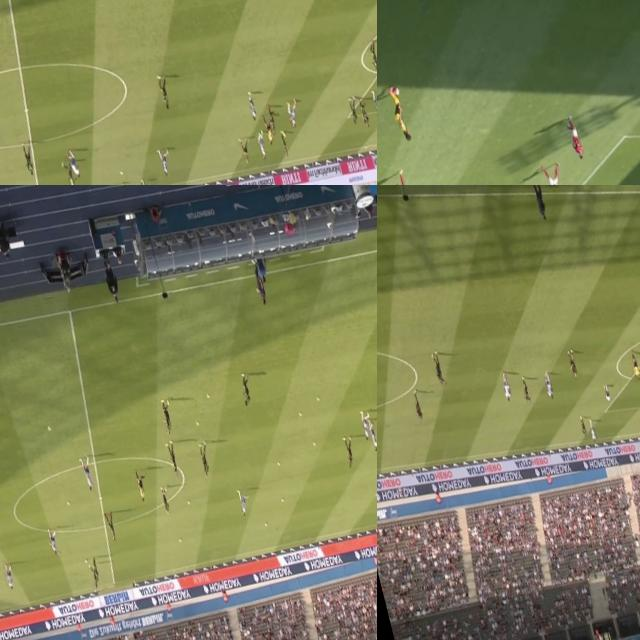ball: (393, 84, 402, 98), (118, 168, 124, 177), (297, 410, 302, 417), (179, 537, 183, 544), (46, 426, 52, 430), (84, 558, 88, 564), (277, 462, 281, 468), (317, 395, 321, 401), (264, 523, 268, 527), (67, 501, 70, 506), (187, 500, 190, 504), (207, 394, 210, 398), (282, 499, 284, 505), (312, 443, 316, 446), (196, 422, 198, 426)
player: (384, 86, 414, 148), (566, 120, 584, 163), (158, 395, 176, 436), (155, 72, 173, 108), (237, 372, 255, 408), (164, 438, 182, 474), (156, 146, 174, 180), (20, 142, 38, 176), (196, 440, 212, 477), (80, 455, 96, 490), (566, 348, 582, 383), (103, 508, 119, 542), (45, 528, 62, 560), (264, 104, 280, 136), (358, 410, 375, 440), (342, 437, 358, 468), (498, 370, 514, 400), (346, 99, 362, 128), (237, 136, 253, 165), (411, 389, 425, 422), (430, 351, 444, 384), (357, 96, 371, 128), (278, 128, 292, 160), (285, 98, 300, 127), (3, 564, 18, 593), (544, 165, 565, 185), (518, 374, 532, 404), (160, 486, 173, 516), (541, 371, 554, 400), (246, 92, 258, 123), (237, 488, 251, 514), (256, 134, 268, 162), (63, 161, 77, 185), (67, 148, 78, 178), (392, 171, 414, 185), (368, 42, 377, 74), (368, 422, 377, 452), (90, 566, 100, 590), (586, 420, 598, 440), (370, 90, 377, 123), (602, 383, 613, 404), (90, 557, 100, 580), (578, 416, 588, 436), (140, 178, 152, 185)
